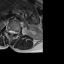CCS_normal: (11, 28, 12, 38)
LFS_normal: (15, 29, 17, 35)
LLS_normal: (12, 28, 15, 36)
RFS_normal: (7, 27, 9, 34)
RLS_normal: (9, 28, 11, 35)
